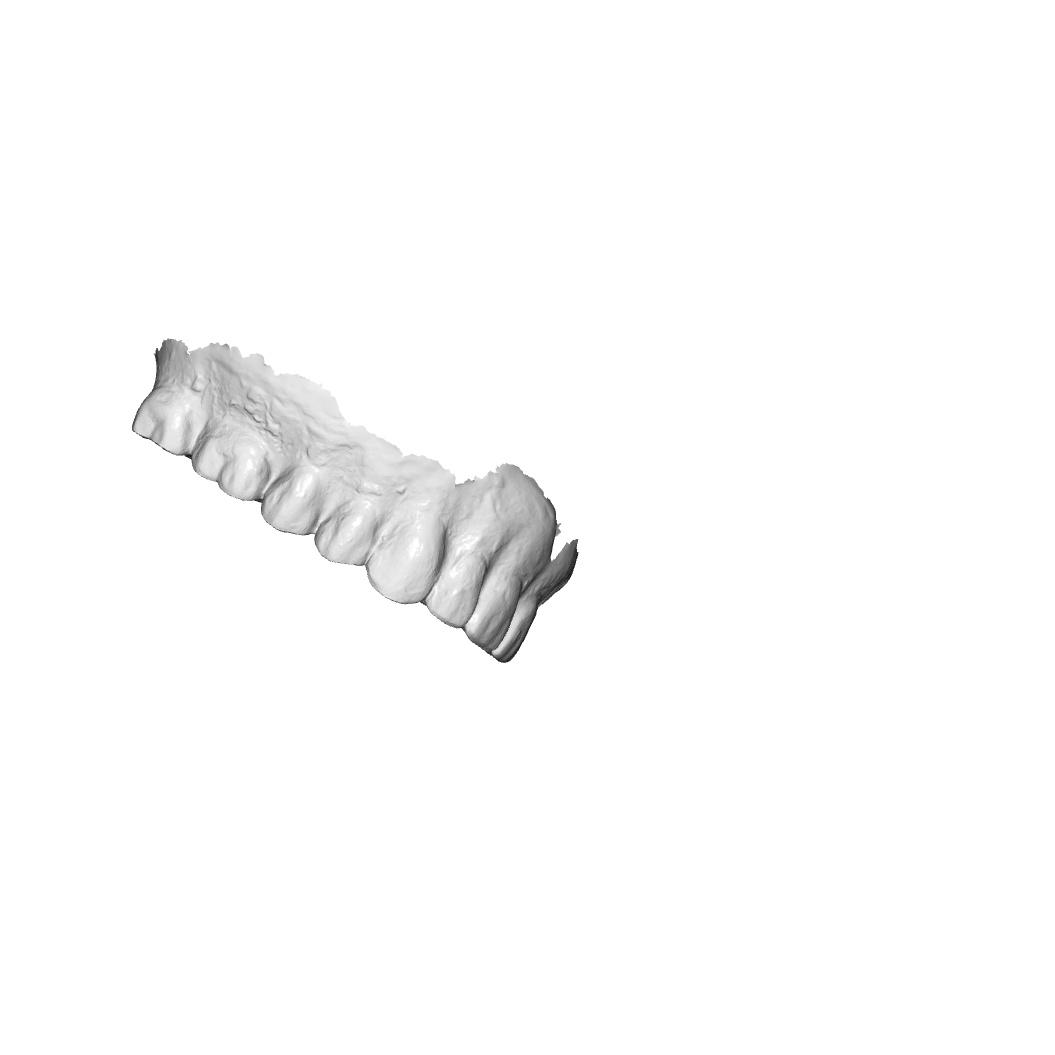canine: (361, 523, 449, 610)
incisor: (422, 548, 489, 634), (462, 573, 526, 656), (491, 601, 535, 664)
molar: (191, 433, 286, 502), (125, 382, 208, 457)
premolar: (313, 500, 385, 571), (255, 479, 331, 539)
